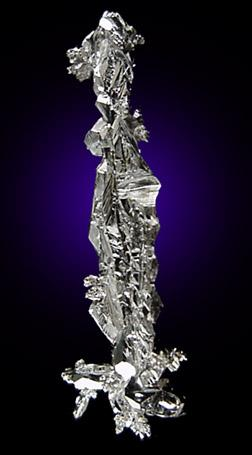silver: (61, 11, 186, 441)
